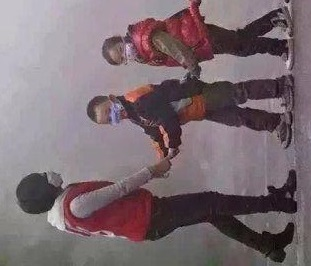person: (13, 153, 297, 266), (85, 77, 296, 160), (103, 5, 296, 76)
